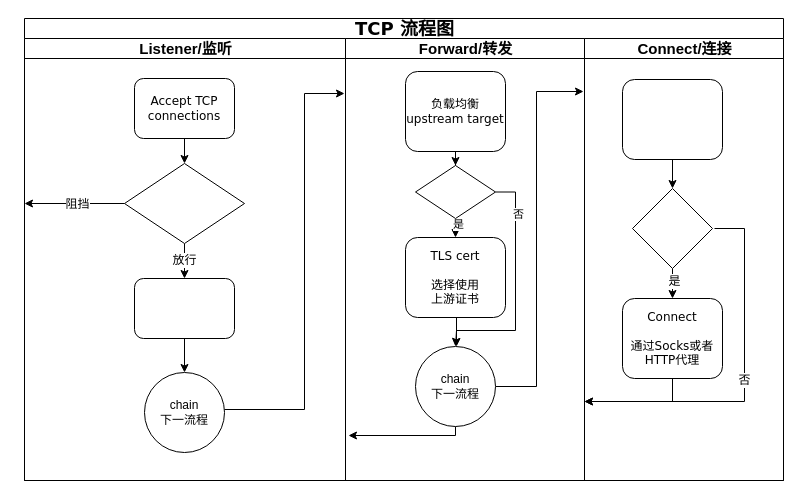
The diagram is 801 pixels wide and 498 high, and some of its shapes have lost their labels. The shapes that lost their labels are listed below. From the top down, each one's centre as x and y in pixels, then its label:
point 672,119: Connect 连接
point 184,203: IP 黑白名单
point 455,191: 是否有 TLS证书
point 672,228: 是否 代理
point 184,308: 四层限流
